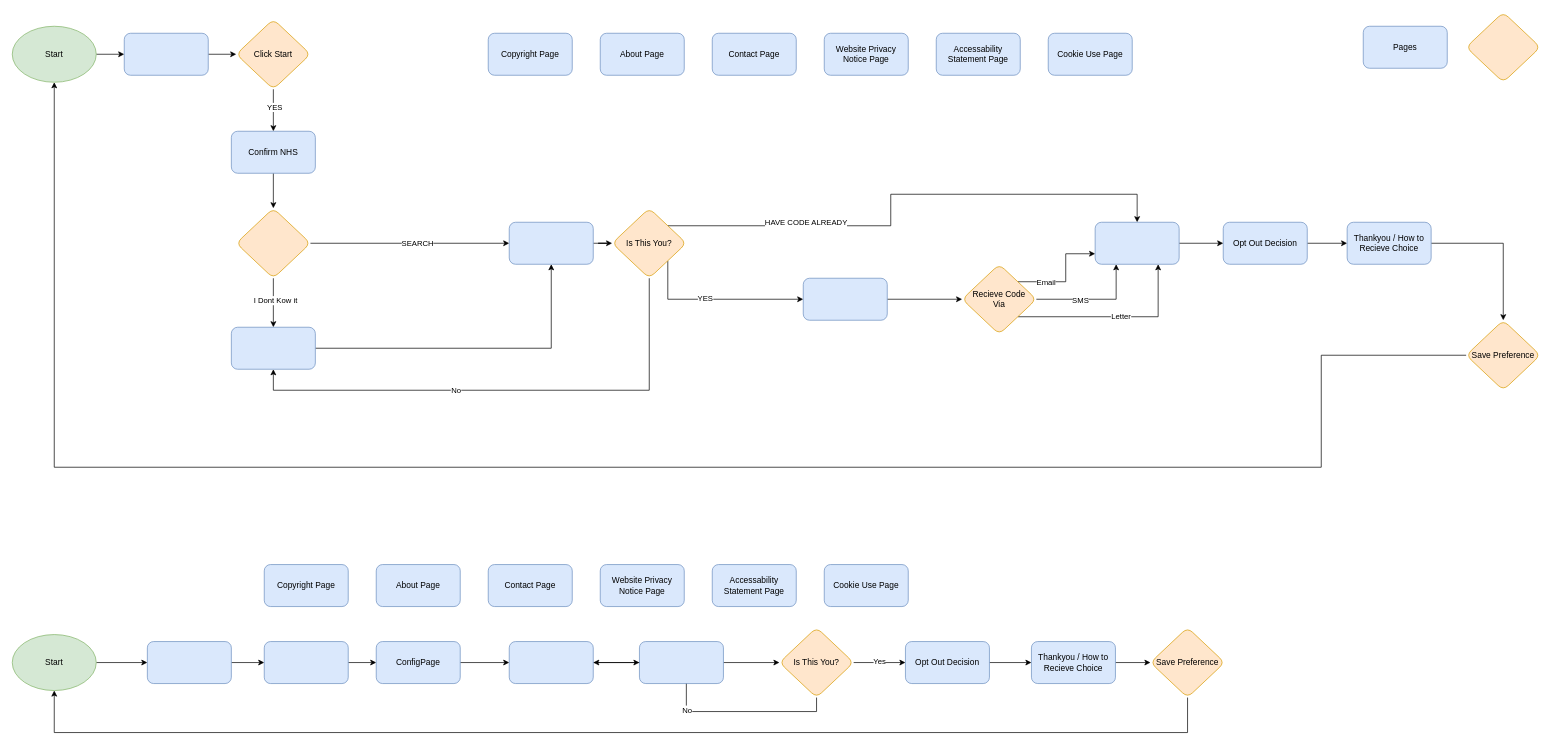
This 1553x750 diagram has some shape labels left out. Here are the shapes that lost their labels. From the top down, the box of each, then its label:
(124, 33, 208, 75): Landing Page
(1465, 12, 1540, 82): Decision
(236, 208, 310, 278): NHS Number
(509, 222, 593, 264): Confirm Details
(1094, 222, 1179, 264): Enter Code
(803, 278, 887, 320): Positive Confirmation
(231, 327, 315, 369): Provide Search
(147, 641, 231, 684): MSA Authentication
(264, 641, 348, 684): HomePage
(509, 641, 593, 684): LDOO (Search)
(639, 641, 723, 684): Confirtm Details
